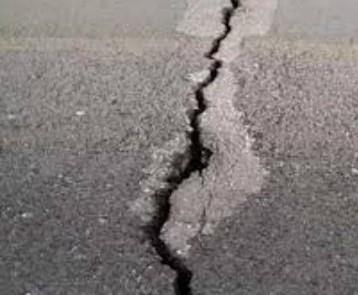crack: (148, 0, 243, 295)
